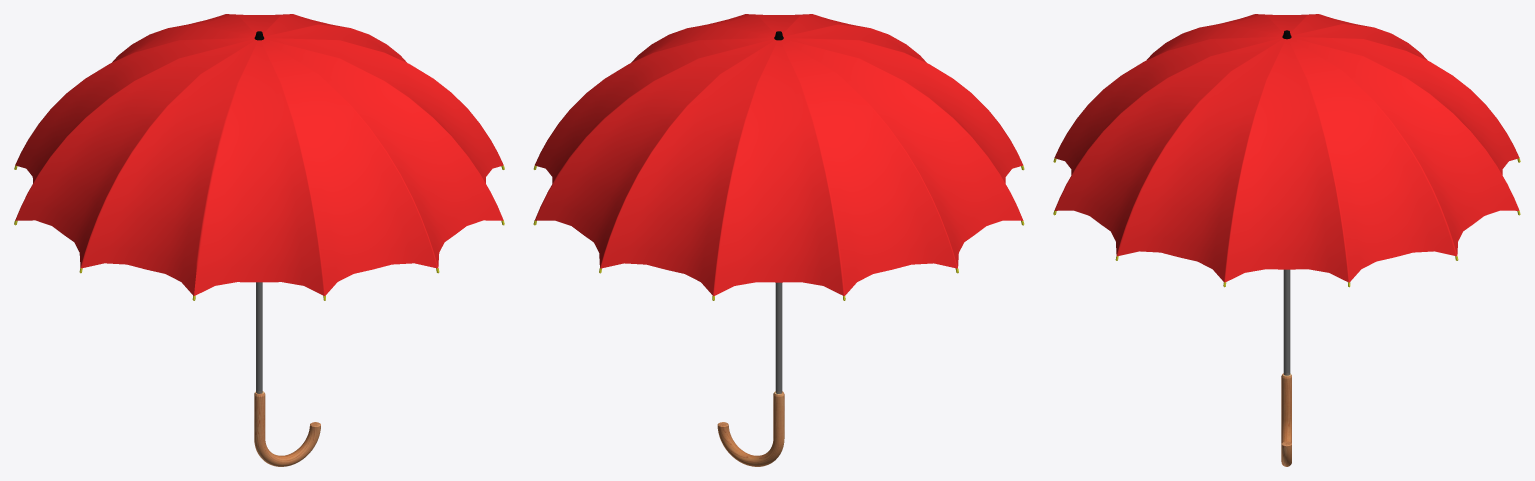
3 views of the same model, side by side, from view 1: azimuth 30°, elevation 25°; view 2: azimuth 150°, elevation 25°; view 3: azimuth 270°, elevation 25° (orthographic). The views are drawn at different scales.
Parts seen in each view (by area): view 1: fabric_5, Handle_6, MainFrame_9; view 2: fabric_5, Handle_6, MainFrame_9; view 3: fabric_5, Handle_6, MainFrame_9.
Part boxes in pixels (x1,y1,x2,y2): fabric_5: (15,14,503,295); Handle_6: (254,391,320,466); MainFrame_9: (256,282,262,393); fabric_5: (534,14,1023,296); Handle_6: (717,391,784,466); MainFrame_9: (775,282,782,393); fabric_5: (1054,14,1519,282); Handle_6: (1281,373,1291,466); MainFrame_9: (1283,269,1290,375).
Size of the model in its own units: 7.55 by 7.47 by 7.55.
Materials: 55 (1 with a texture image).
